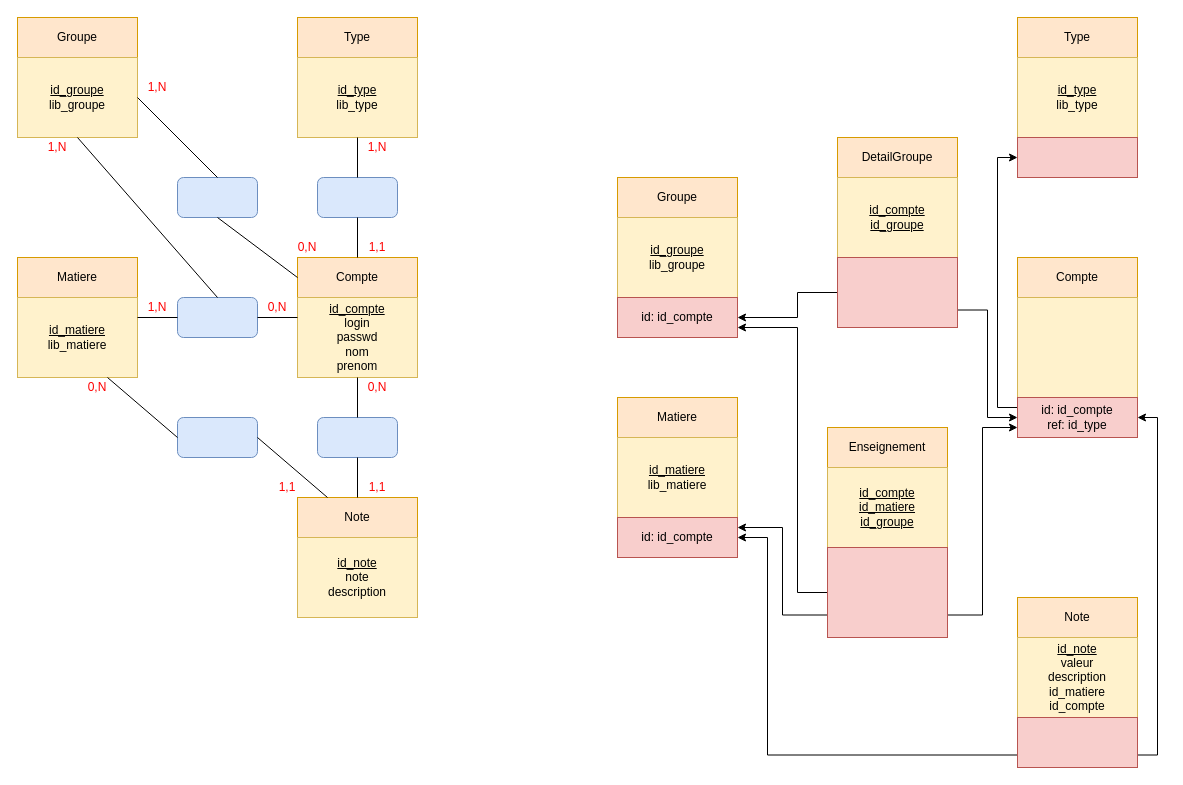
This 1183x785 diagram has some shape labels left out. The centre of each missing label's shape, as x and y in pixels:
"Composer" belongs at [217,197].
"Détenir" belongs at [357,437].
"Enseigner" belongs at [217,317].
"id: id_compte id_groupe ref: id_compte id_groupe" belongs at [897,292].
"id: id_compte id_matiere id_groupe ref: id_compte id_matiere id_groupe" belongs at [887,592].
"id: id_compte ref: id_matiere id_compte" belongs at [1077,742].
"id: id_type" belongs at [1077,157].
"id_compte login passwd nom prenom id_type" belongs at [1077,347].
"Lier" belongs at [217,437].
"Posséder" belongs at [357,197].
